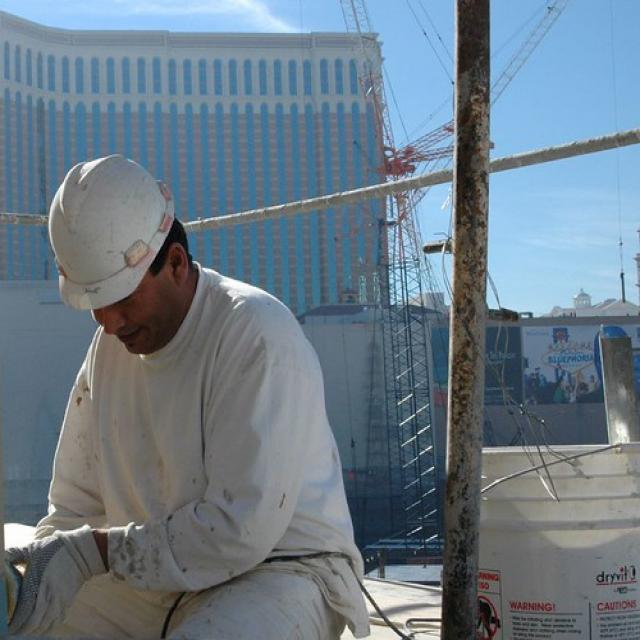Safety-Helmet: (41, 148, 178, 313)
